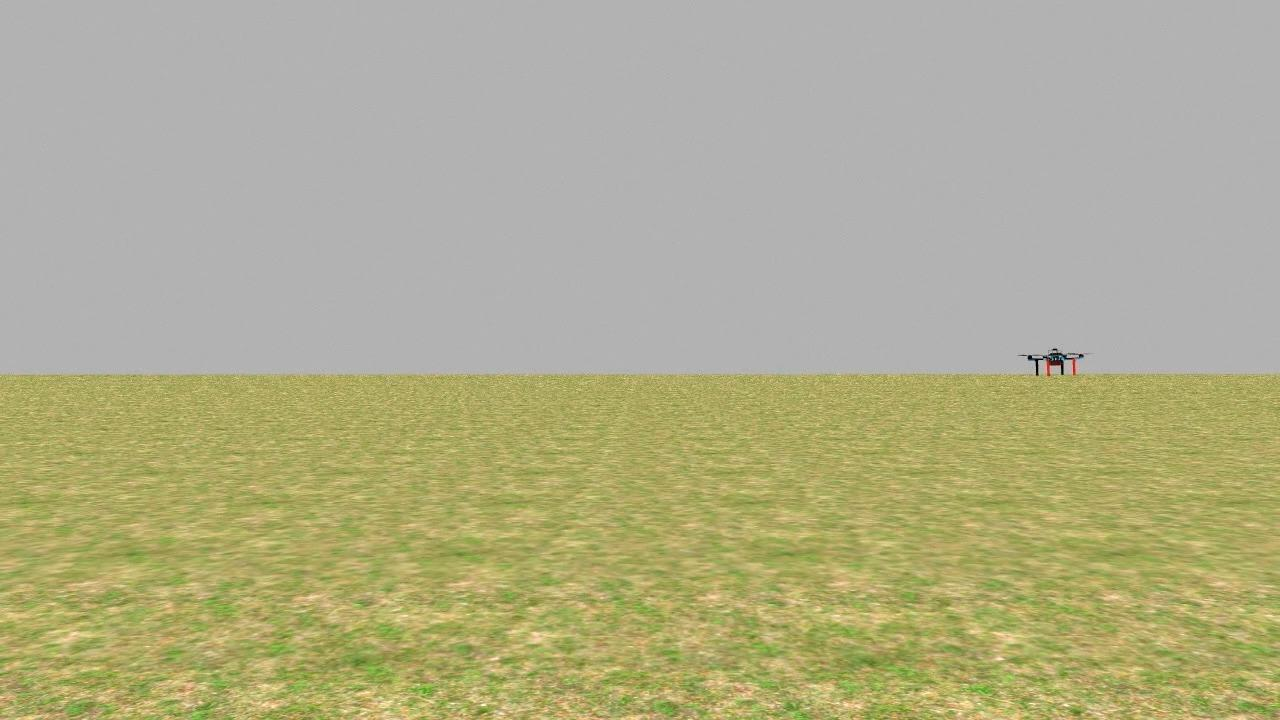UAV: (1017, 340, 1092, 387)
